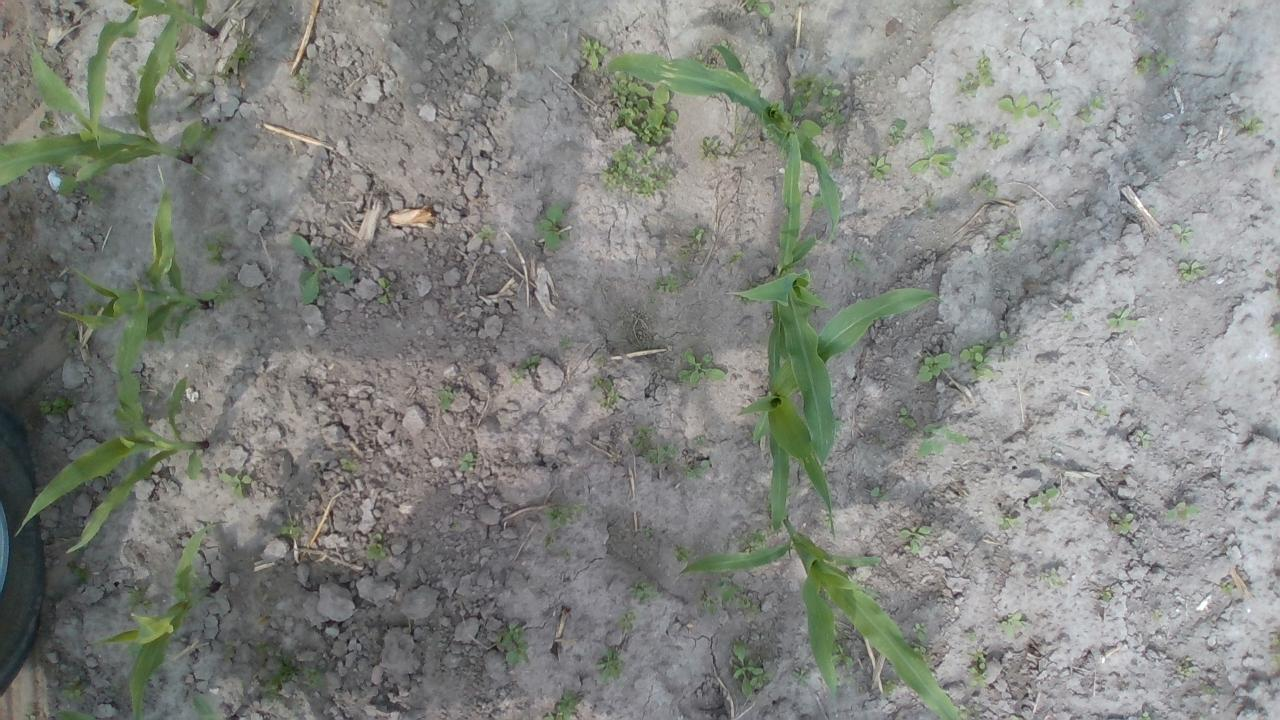Maize: (676, 514, 960, 720), (14, 283, 210, 556), (736, 285, 940, 540), (600, 41, 841, 228), (0, 14, 210, 203), (724, 132, 842, 463), (57, 186, 211, 346), (101, 526, 211, 720), (89, 0, 219, 145), (51, 712, 94, 720)
Weeds: (606, 72, 678, 146), (292, 233, 349, 302), (607, 148, 674, 195), (728, 640, 768, 698), (908, 127, 954, 176), (676, 351, 728, 388), (918, 422, 967, 458), (256, 659, 296, 695), (958, 56, 992, 97), (540, 201, 568, 250), (225, 30, 258, 70), (497, 628, 530, 666), (996, 93, 1040, 120), (588, 377, 620, 413), (580, 38, 610, 74), (789, 76, 814, 118), (918, 351, 950, 382), (220, 467, 252, 498), (596, 646, 622, 680), (1042, 94, 1066, 130), (1076, 95, 1105, 123), (554, 690, 580, 720), (627, 581, 657, 607), (1110, 304, 1142, 328), (903, 528, 931, 555), (551, 505, 583, 528), (969, 176, 1000, 199), (1000, 612, 1026, 638), (640, 447, 681, 463), (866, 154, 890, 181), (1168, 502, 1200, 522), (1237, 112, 1262, 137), (654, 276, 681, 298), (1026, 490, 1059, 508), (833, 640, 854, 668), (1173, 224, 1195, 250), (742, 0, 776, 16), (699, 578, 715, 612), (960, 344, 986, 364), (214, 278, 234, 304), (1178, 259, 1200, 282), (204, 240, 227, 262), (1041, 566, 1066, 586), (970, 663, 991, 686), (1156, 53, 1174, 79), (990, 124, 1008, 150), (997, 332, 1012, 363), (1113, 511, 1137, 530), (898, 408, 918, 430), (700, 136, 720, 158), (364, 543, 388, 561), (438, 389, 458, 410), (303, 667, 322, 689), (689, 226, 708, 248), (885, 124, 903, 147), (722, 582, 742, 602), (1135, 50, 1150, 76), (631, 429, 652, 447), (847, 252, 865, 272), (689, 460, 709, 478), (832, 102, 850, 122), (86, 184, 106, 202), (820, 87, 842, 103), (1136, 428, 1154, 447), (795, 666, 813, 684), (973, 642, 989, 662), (54, 398, 74, 413), (748, 531, 768, 546), (956, 126, 972, 144), (912, 622, 928, 640), (68, 562, 86, 578), (507, 373, 525, 389), (378, 276, 389, 302), (674, 547, 693, 562), (296, 75, 310, 95), (340, 458, 360, 472), (971, 367, 996, 378), (38, 398, 54, 415), (225, 640, 238, 660), (738, 600, 758, 613), (62, 331, 78, 347), (284, 522, 300, 538), (462, 453, 477, 470), (728, 252, 746, 266), (202, 126, 222, 138), (522, 356, 540, 369), (1093, 405, 1108, 420), (826, 148, 840, 164), (924, 197, 934, 218), (1055, 240, 1070, 254), (194, 162, 208, 177), (1176, 658, 1192, 671), (88, 299, 104, 312), (478, 229, 496, 240), (622, 613, 636, 627), (598, 354, 611, 369), (1220, 578, 1232, 594), (1200, 678, 1216, 690), (912, 642, 928, 654), (999, 233, 1013, 246), (1130, 10, 1144, 23), (1099, 586, 1113, 599), (40, 114, 51, 130), (1152, 608, 1166, 620), (560, 334, 570, 350), (1066, 306, 1076, 321), (1002, 518, 1016, 528), (818, 112, 832, 122), (61, 690, 78, 698), (1270, 632, 1280, 645), (1068, 0, 1083, 8), (966, 628, 978, 638), (871, 489, 882, 499), (960, 706, 969, 718), (1140, 711, 1151, 720), (679, 246, 690, 255), (886, 681, 896, 690), (950, 0, 960, 6)
